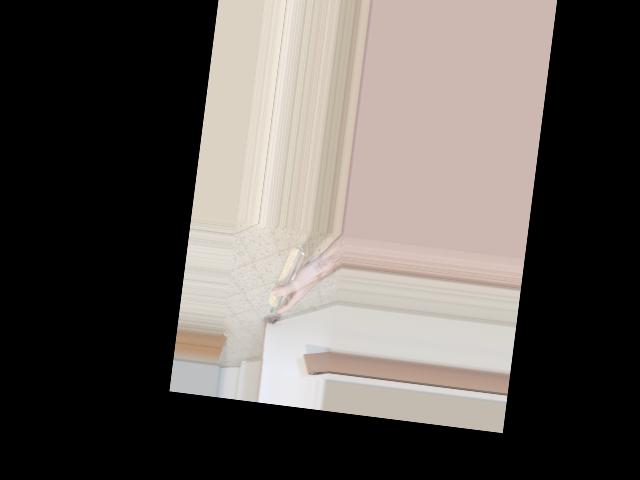cheese: (258, 250, 322, 321)
